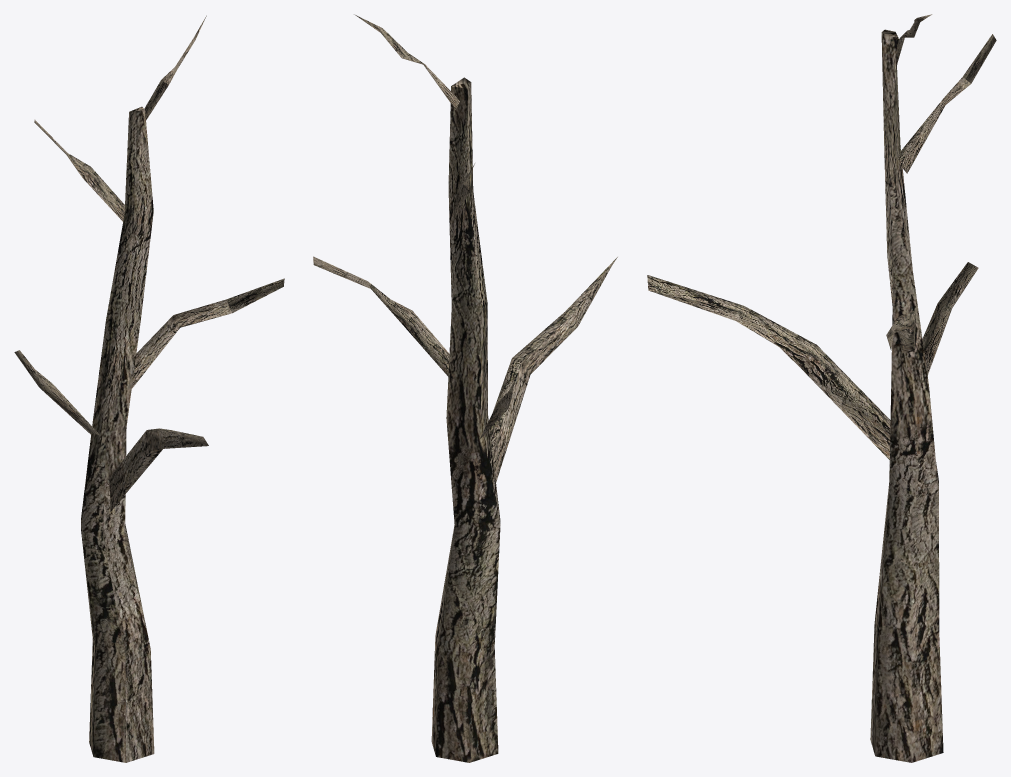
File: TreeBig2_LOD2.FBX
The picture shows the model from 3 angles, left to right: view 1: azimuth 30°, elevation 25°; view 2: azimuth 150°, elevation 25°; view 3: azimuth 270°, elevation 25°; orthographic projection. The views are drawn at different scales.
Parts seen in each view (by area): view 1: objdefault; view 2: objdefault; view 3: objdefault.
Part boxes in pixels (x1,y1,x2,y2): objdefault: (14,15,284,762); objdefault: (313,14,617,762); objdefault: (647,14,996,762).
Bounding box in the file's own units: 10.43 × 30.28 × 12.21.
Materials: 1 (1 with a texture image).
